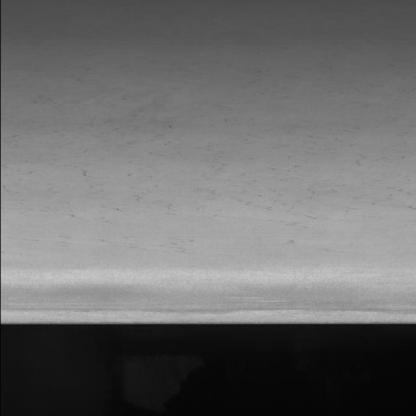silk_spot: (31, 133, 302, 257)
